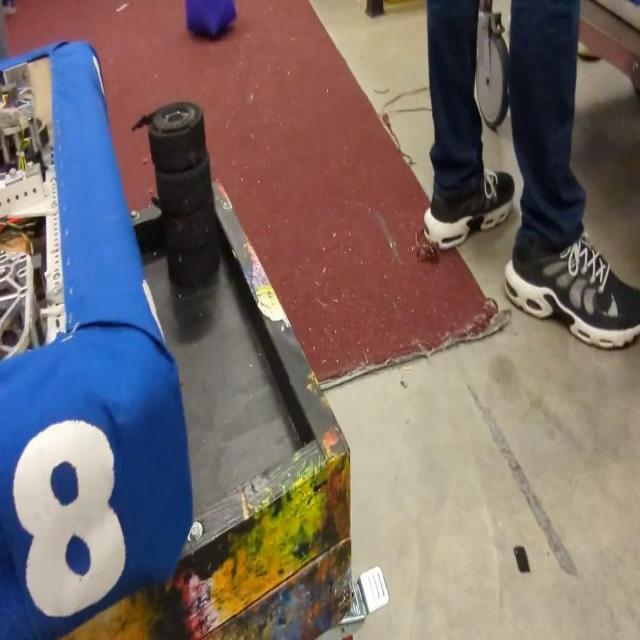frc_cube: (185, 0, 237, 38)
